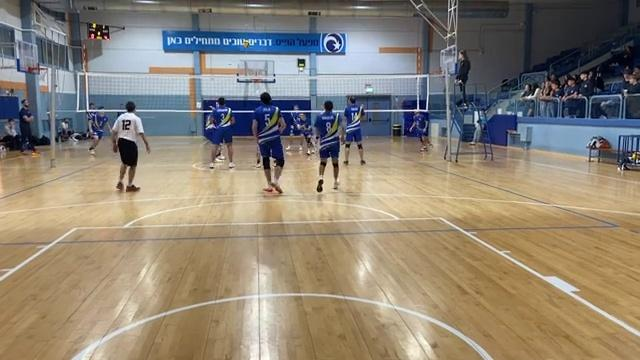ball: (241, 37, 251, 54)
